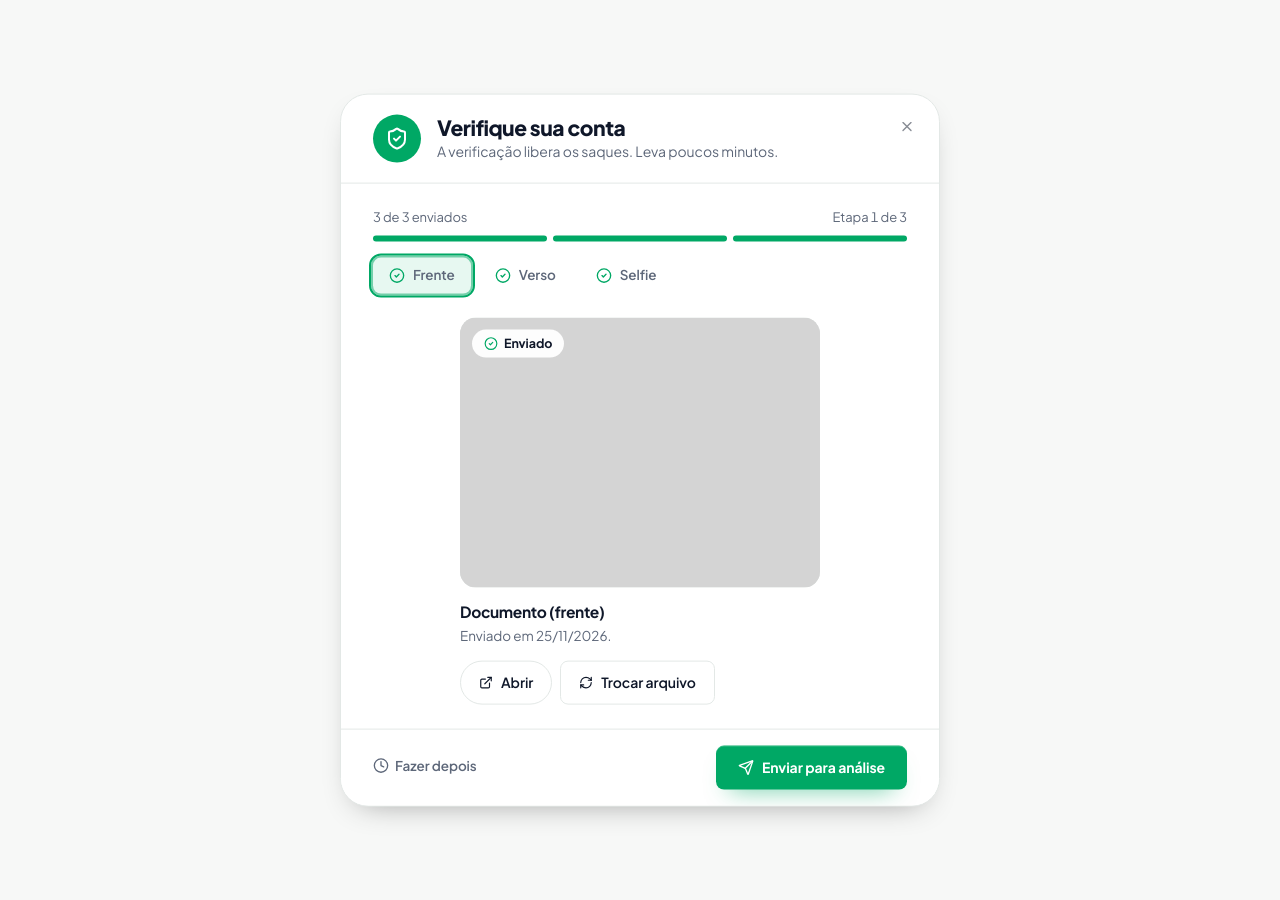
Scenario: popup de verificação › recusa do servidor fica no popup
The image size is (1280, 900).
Click the button "Enviar para análise": (812, 767) [716, 745, 907, 789]
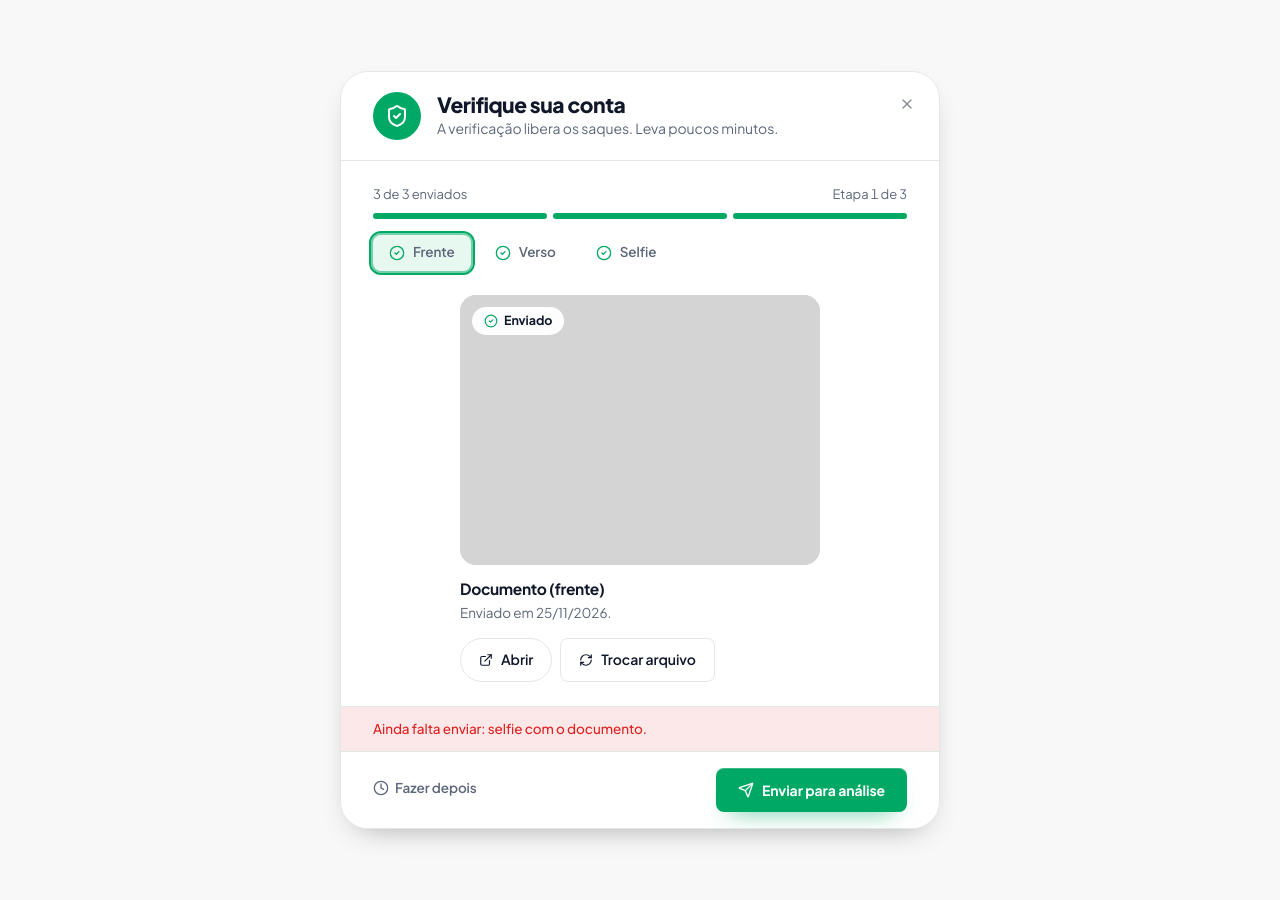
Expected: the message reads "Ainda falta enviar: selfie com o documento.", [373, 720, 647, 737]
